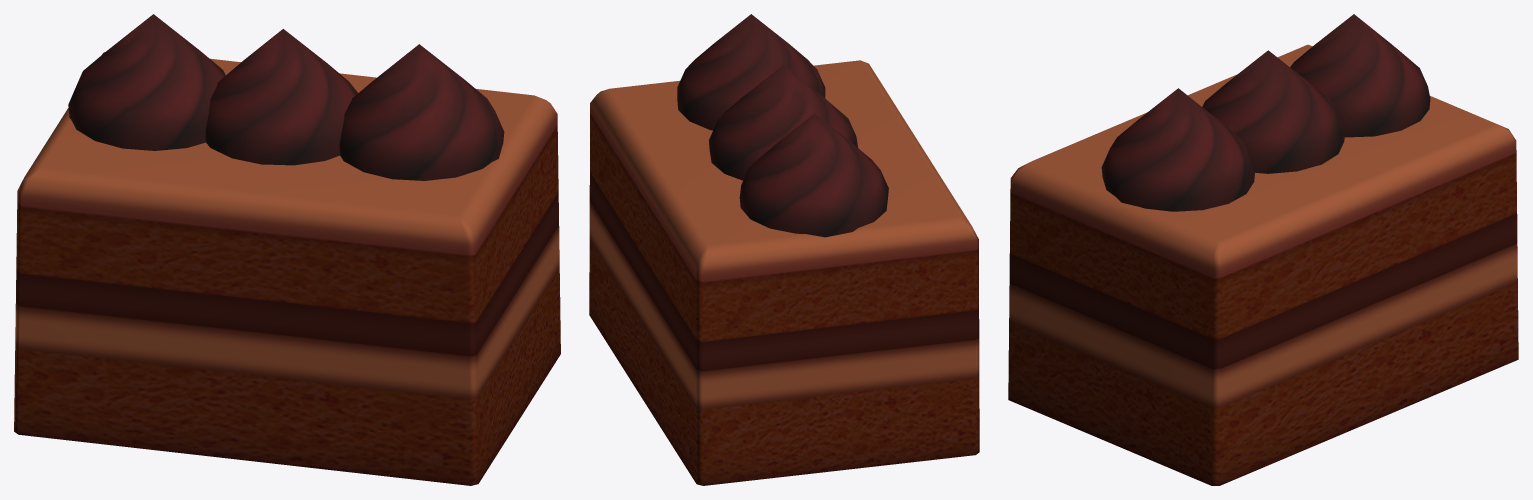
Rendered from 009-Cakes02.FBX.
3 renders of one model, left to right at view 1: azimuth 30°, elevation 25°; view 2: azimuth 150°, elevation 25°; view 3: azimuth 270°, elevation 25°, orthographic. The views are drawn at different scales.
Visible parts, largest first — view 1: 009-Cakes02; view 2: 009-Cakes02; view 3: 009-Cakes02.
Part boxes in pixels (box(x1,y1,x2,y2)): 009-Cakes02: box(14, 14, 560, 485); 009-Cakes02: box(589, 14, 979, 485); 009-Cakes02: box(1008, 14, 1518, 485).
Bounding box in the file's own units: 14.85 × 10.51 × 14.85.
